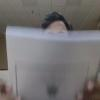notebook: (4, 24, 99, 99)
